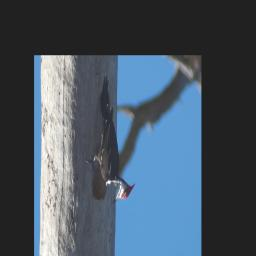Woodpecker: (84, 75, 136, 204)
